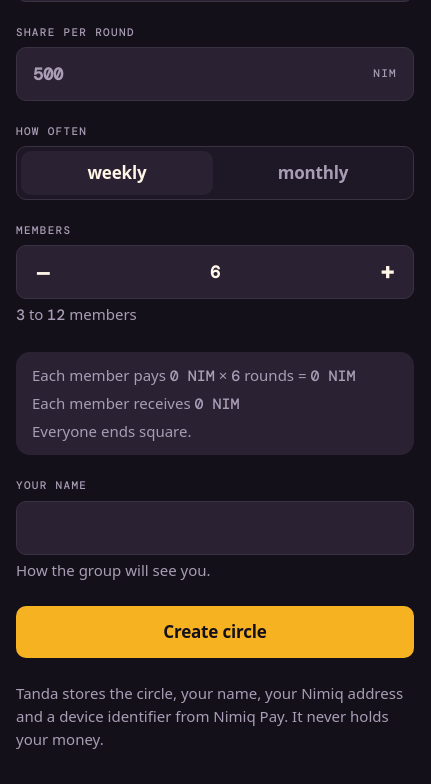
Test: §8.3 create › an incomplete form names what is missing and sends nothing
This screenshot has width=431, height=784.
(page scrolled)
Click the button "Create circle": (215, 632) [16, 606, 414, 658]
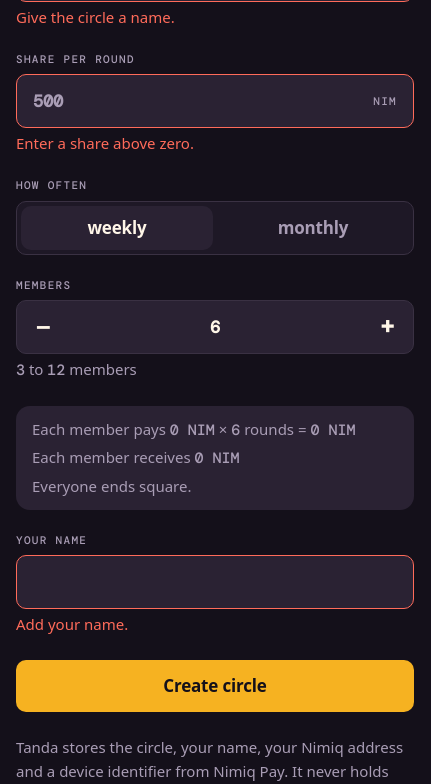
Now the text "Give the circle a name." is shown, box [16, 7, 175, 27]
Now the text "Enter a share above zero." is shown, box [16, 133, 194, 153]
Now the text "Add your name." is shown, box [16, 614, 128, 634]
